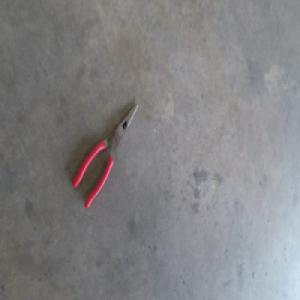Pliers: (70, 99, 136, 207)
